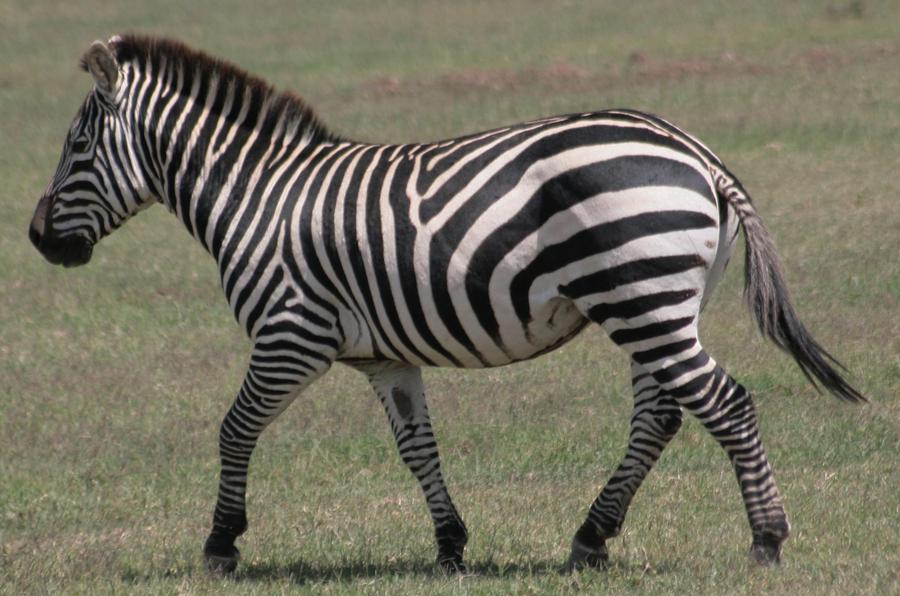zebra_plains: (197, 117, 712, 371)
